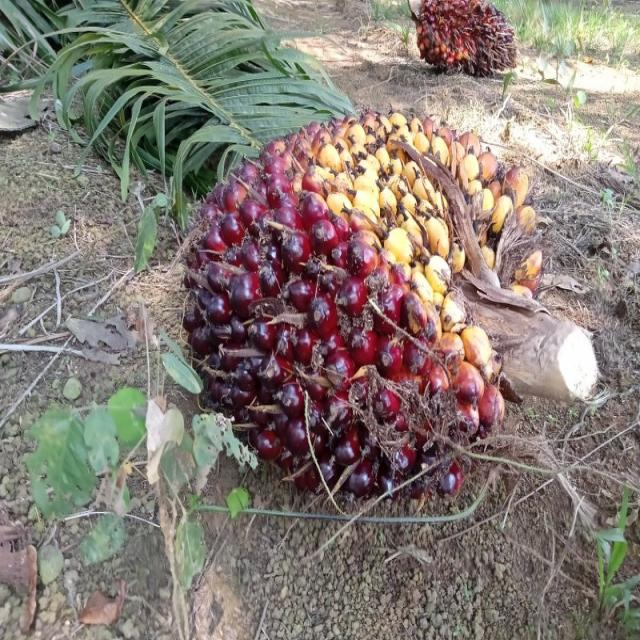fraksi 3: (180, 105, 562, 486)
